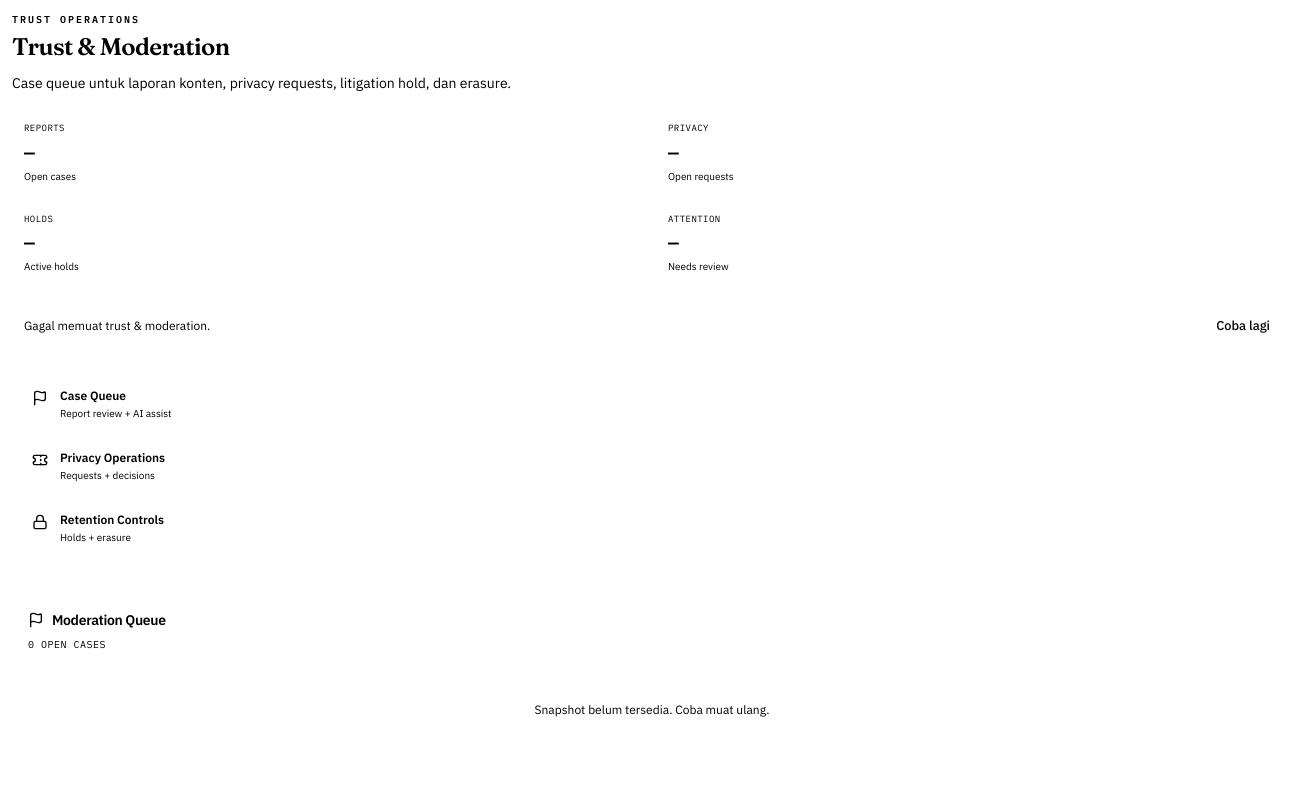
Test: TrustModerationV2 › allows retry after the moderation collections fail to load
The image size is (1292, 812).
Expected: the message "Gagal memuat trust & moderation. Coba lagi" is shown, [12, 304, 1291, 348]
Step 1. Click the button "Coba lagi" → {"x": 1243, "y": 326}, box [1206, 312, 1280, 340]
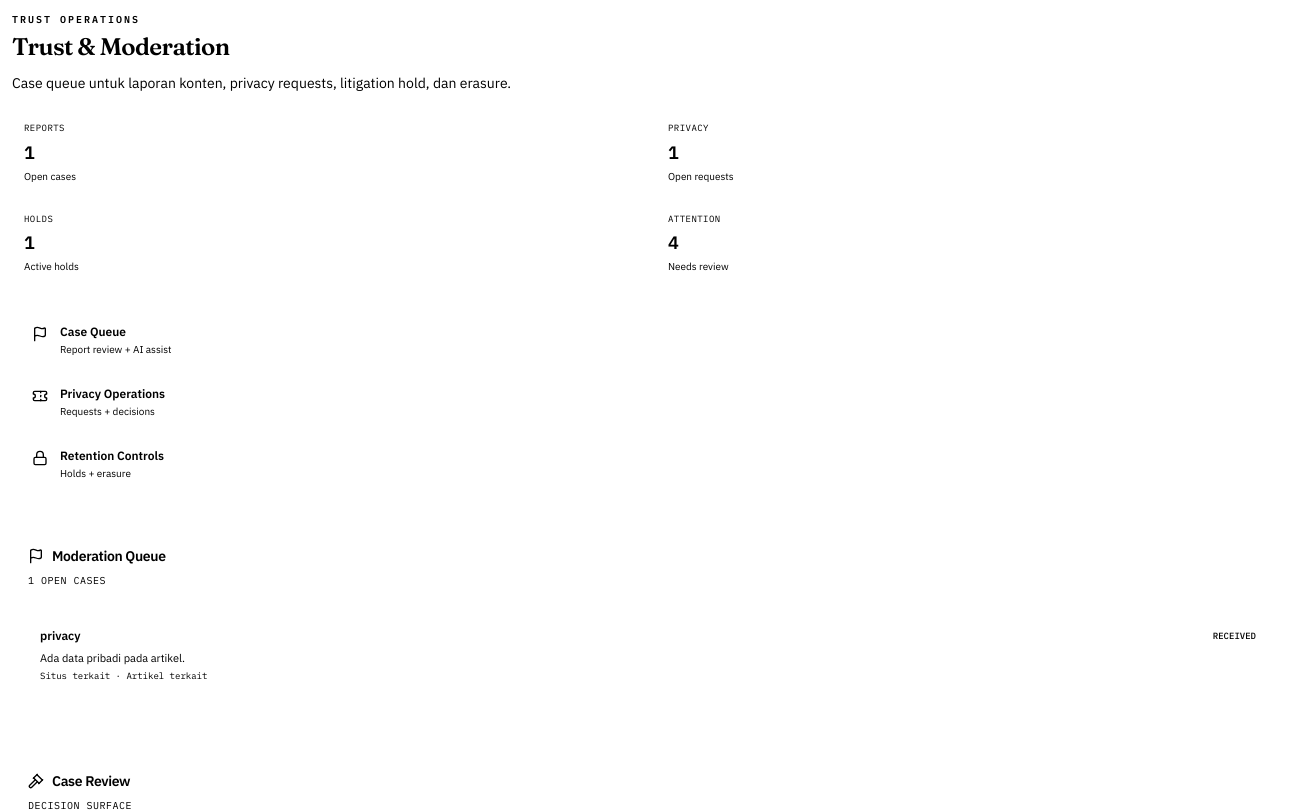
Now the text "Ada data pribadi pada artikel." is shown, box [40, 651, 185, 665]
